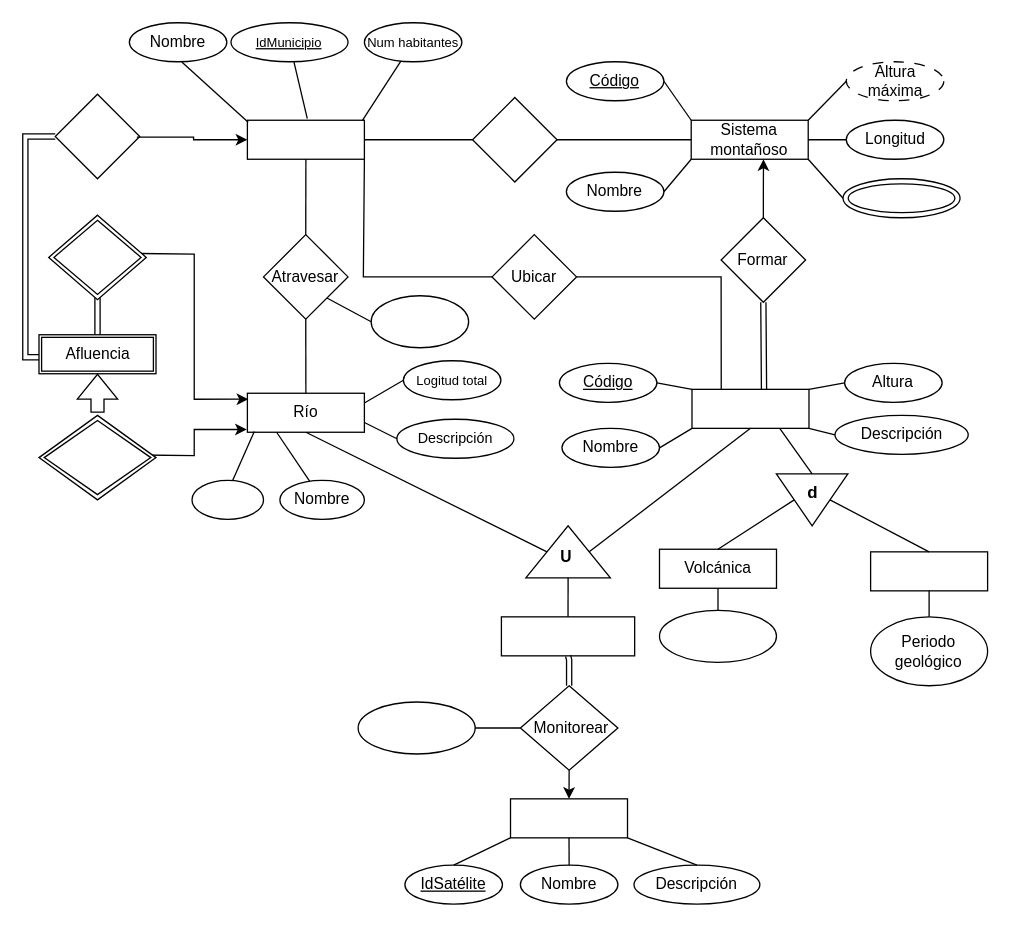
Some shapes in this 1011 by 927 pixel diagram are drawn without their labels. The shapes that lost their labels are listed below. From the top down, each one's centre as x and y in pixels, then its label:
At [97,136]: "Ocurrir".
At [305,139]: "Municipio".
At [514,139]: "Ocupar".
At [901,197]: "Orientación".
At [96,257]: "Alimentar".
At [419,321]: "Longitud tramo".
At [750,408]: "Montaña".
At [97,457]: "Desembocar".
At [227,499]: "IdRio".
At [928,571]: "Plegamiento".
At [567,636]: "ElemMonitoreado".
At [717,635]: "Tipo volcán".
At [416,727]: "Fecha Inicio".
At [568,818]: "Satélite".
